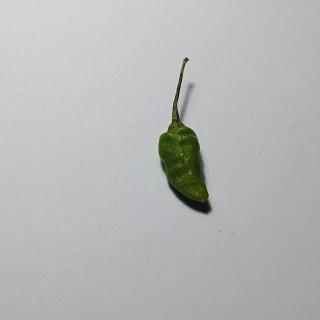Cabai Hijau: (150, 54, 230, 216)
